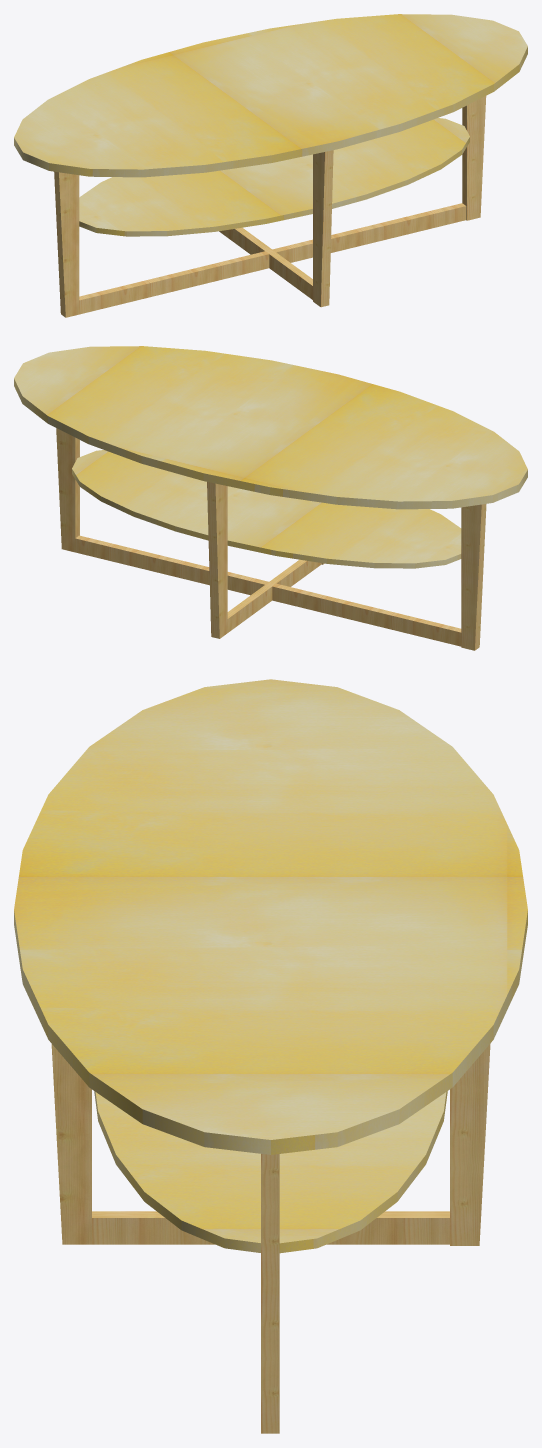
Rendered from vejmon_table_1_obj0_object.obj.
The picture shows the model from 3 angles, top to bottom: view 1: azimuth 30°, elevation 25°; view 2: azimuth 150°, elevation 25°; view 3: azimuth 270°, elevation 25°; orthographic projection. The views are drawn at different scales.
Parts seen in each view (by area): view 1: Mesh7 Group1 Model, Mesh6 Group1 Model, Mesh5 Group6 Group1 Model, Mesh2 Group3 Group1 Model, Mesh3 Group4 Group1 Model, Mesh1 Group2 Group1 Model; view 2: Mesh7 Group1 Model, Mesh6 Group1 Model, Mesh5 Group6 Group1 Model, Mesh2 Group3 Group1 Model, Mesh4 Group5 Group1 Model, Mesh1 Group2 Group1 Model; view 3: Mesh7 Group1 Model, Mesh6 Group1 Model, Mesh4 Group5 Group1 Model, Mesh3 Group4 Group1 Model, Mesh5 Group6 Group1 Model, Mesh1 Group2 Group1 Model.
Part boxes in pixels (x1,y1,x2,y2): Mesh7 Group1 Model: (14,14,527,177); Mesh6 Group1 Model: (79,118,469,236); Mesh5 Group6 Group1 Model: (79,203,466,314); Mesh2 Group3 Group1 Model: (54,171,79,317); Mesh3 Group4 Group1 Model: (313,150,333,307); Mesh1 Group2 Group1 Model: (462,96,486,220); Mesh7 Group1 Model: (14,346,527,509); Mesh6 Group1 Model: (72,450,461,568); Mesh5 Group6 Group1 Model: (75,535,461,646); Mesh2 Group3 Group1 Model: (461,504,486,650); Mesh4 Group5 Group1 Model: (207,482,227,638); Mesh1 Group2 Group1 Model: (56,428,79,552); Mesh7 Group1 Model: (14,679,527,1154); Mesh6 Group1 Model: (94,1091,447,1253); Mesh4 Group5 Group1 Model: (450,1043,490,1245); Mesh3 Group4 Group1 Model: (51,1044,91,1244); Mesh5 Group6 Group1 Model: (92,1211,449,1244); Mesh1 Group2 Group1 Model: (261,1154,279,1433).
Size of the model in its own units: 55.12 by 18.5 by 25.98.
2 materials, 2 textured.
